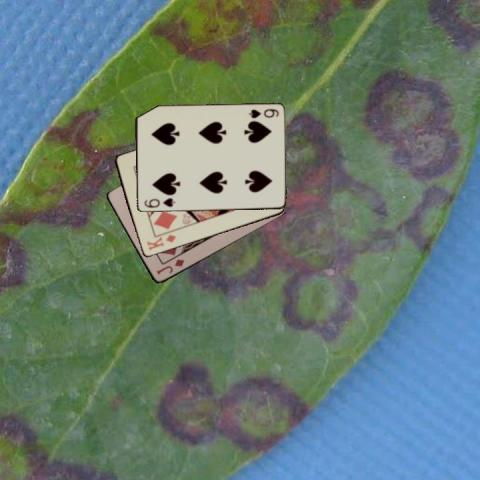6s: (141, 196, 176, 210), (246, 106, 279, 120)
Jd: (153, 256, 186, 276)
Kd: (144, 231, 177, 252)
